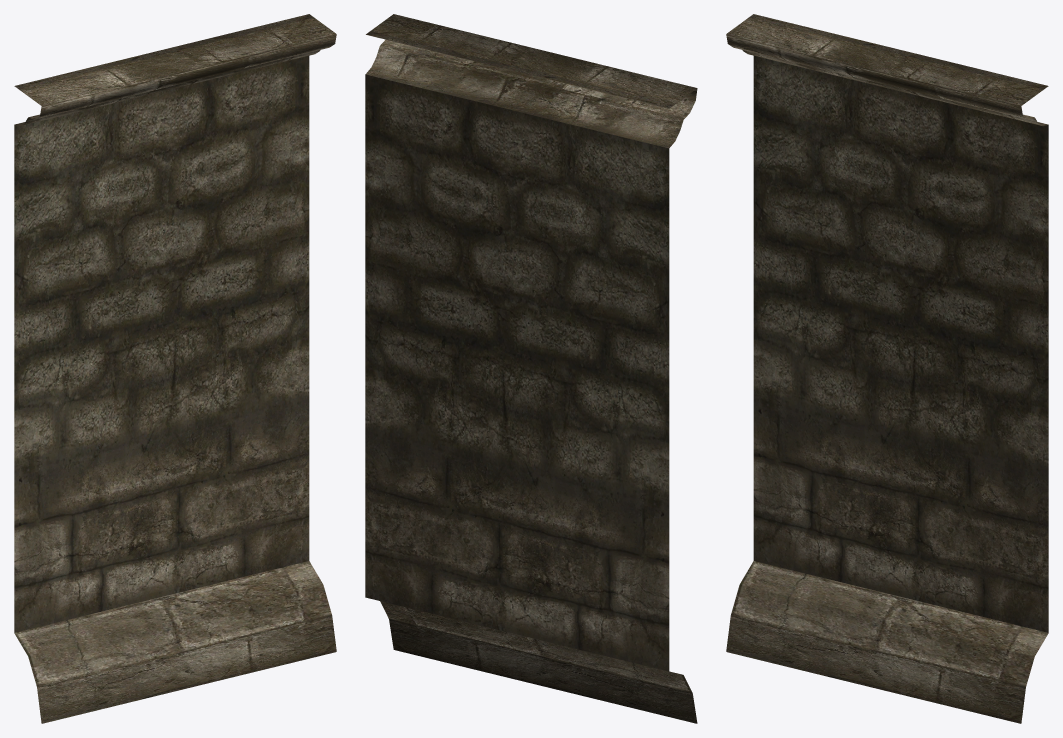
The model's file is default_extension_short_worn_amfp.dae.
3 views of the same model, side by side, from view 1: azimuth 30°, elevation 25°; view 2: azimuth 150°, elevation 25°; view 3: azimuth 330°, elevation 25° (orthographic). The views are drawn at different scales.
Parts seen in each view (by area): view 1: polySurface112; view 2: polySurface112; view 3: polySurface112.
Boxes of the visible parts, x1,y1,x2,y2 form: polySurface112: (14, 14, 336, 723); polySurface112: (365, 14, 697, 723); polySurface112: (726, 14, 1048, 723).
Size of the model in its own units: 200 by 400 by 32.19.
